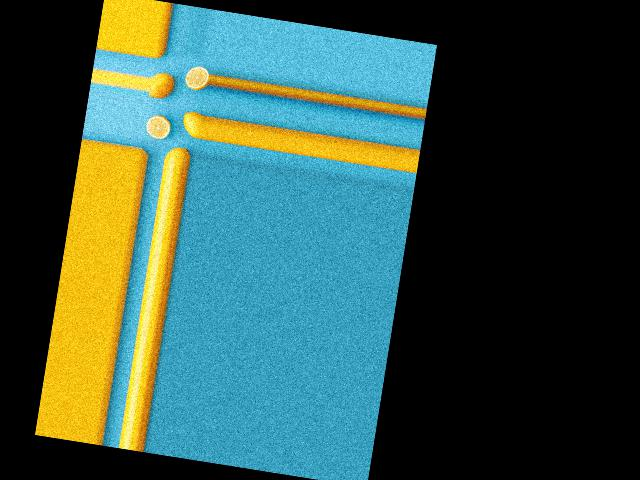lemon: (162, 143, 189, 163)
